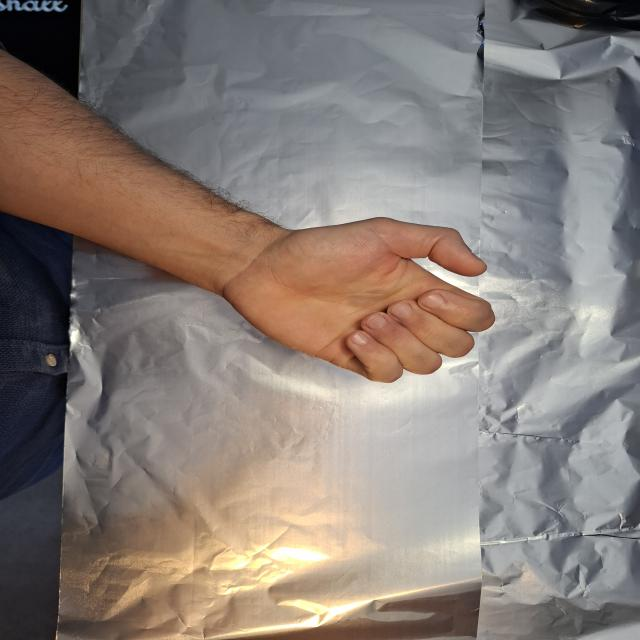glove_off: (210, 198, 498, 386)
